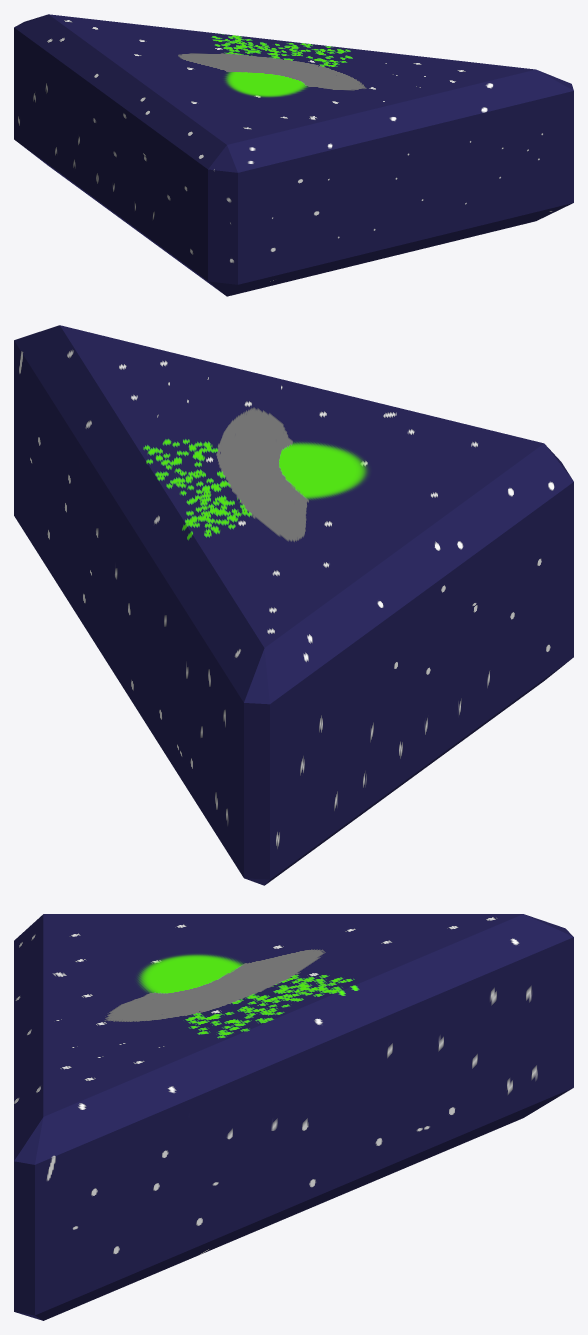
Rendered from triangleBumper.glb.
The picture shows the model from 3 angles, top to bottom: view 1: azimuth 30°, elevation 25°; view 2: azimuth 150°, elevation 25°; view 3: azimuth 270°, elevation 25°; orthographic projection. The views are drawn at different scales.
Parts seen in each view (by area): view 1: Cube; view 2: Cube; view 3: Cube.
Boxes of the visible parts, left/top/right/bottom form: Cube: left=14, top=14, right=573, bottom=296; Cube: left=14, top=325, right=573, bottom=885; Cube: left=14, top=914, right=573, bottom=1320.
Bounding box in the file's own units: 1.93 × 0.7752 × 1.93.
1 material, 1 textured.
